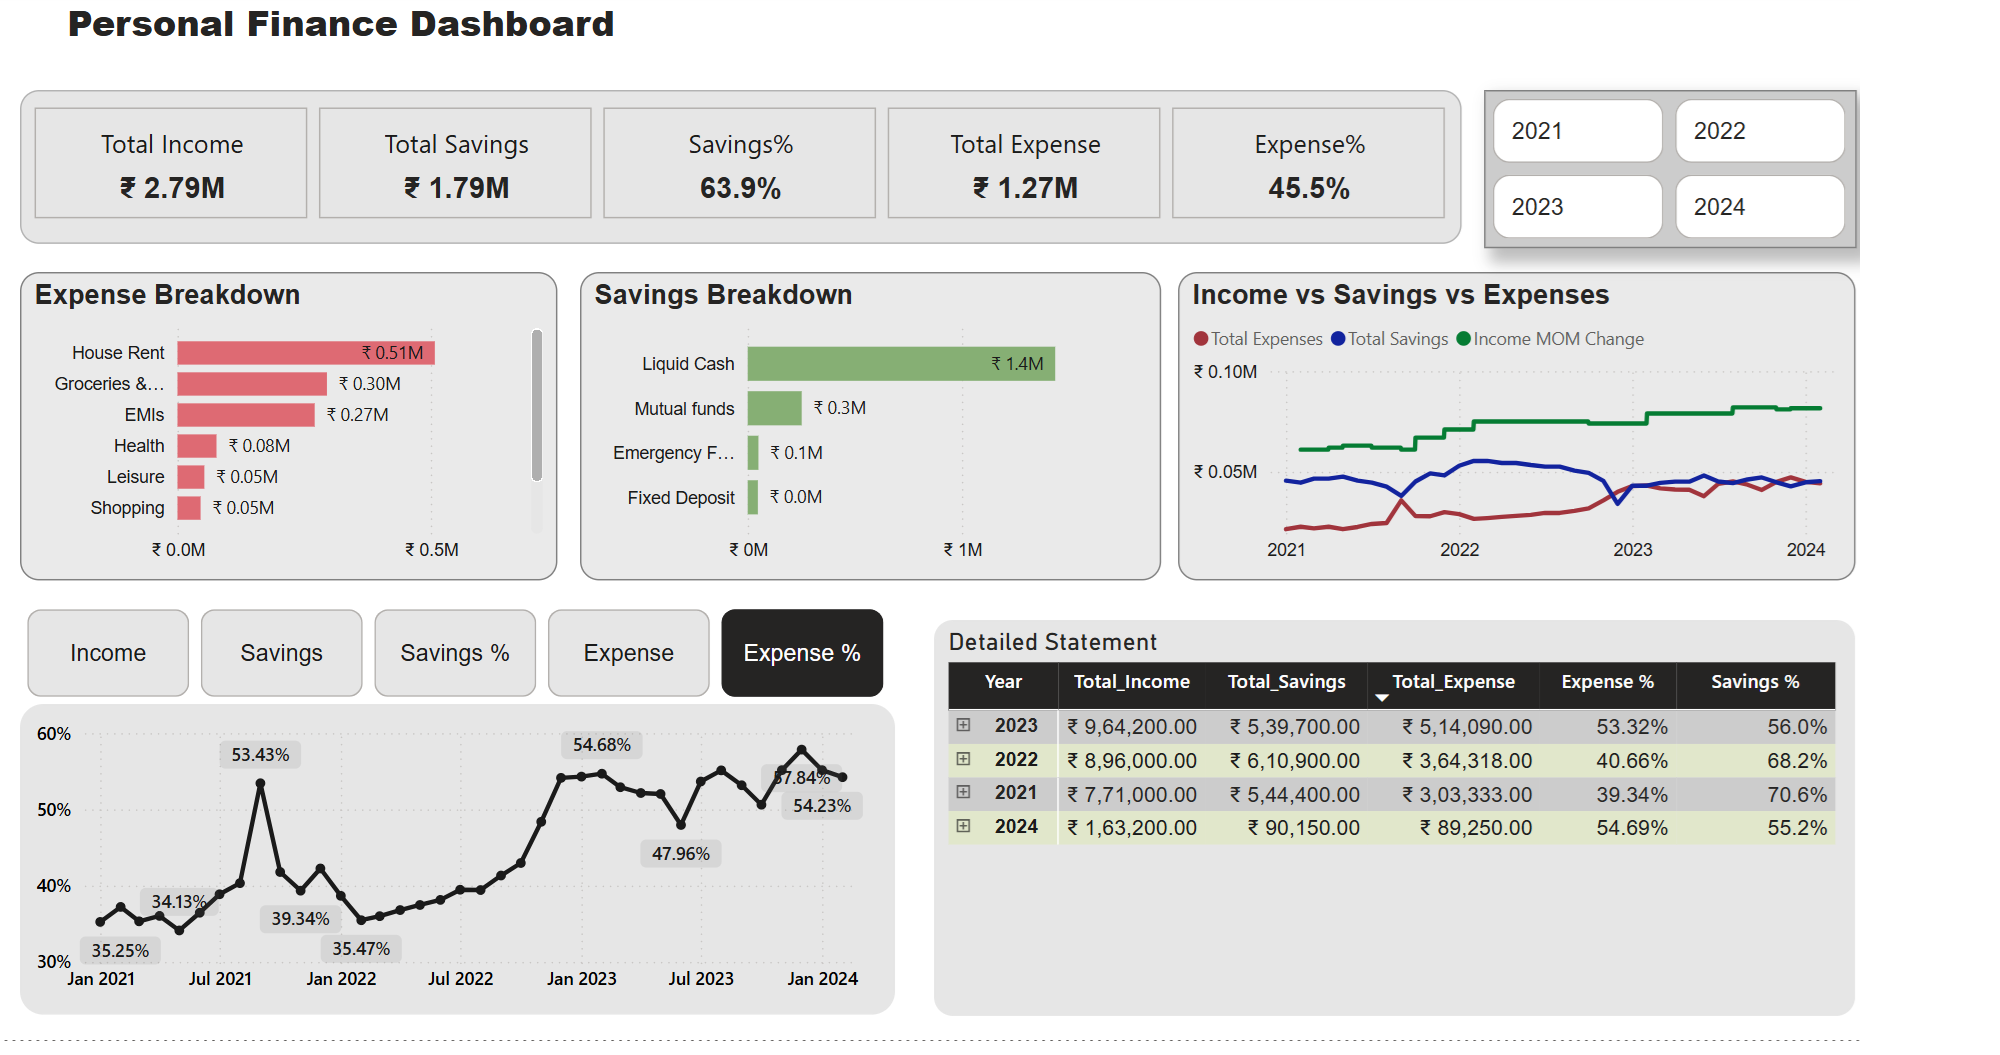

Layout of this report page (visuals, bound fields, positions):
{"tool":"powerbi","page":{"name":"Page 1","canvas":[1280,720],"ordinal":0},"visuals":[{"type":"cardVisual","fields":{"Data":["FinData.Total_Income","FinData.Total_Savings","FinData.Savings %","FinData.Total_Expense","FinData.Expense %"]},"box":[14.3,68.6,988.6,105.7],"z":0},{"type":"barChart","title":"Expense Breakdown","fields":{"Y":["FinData.Total_Expense"],"Category":["FinData.Component"]},"box":[14.3,192.9,368.6,211.4],"z":1000},{"type":"barChart","title":"Savings Breakdown","fields":{"Category":["FinData.Component"],"Y":["FinData.Total_Savings"]},"box":[397.1,192.9,398.6,211.4],"z":2000},{"type":"lineChart","title":"Income vs Savings vs Expenses","fields":{"Y":["FinData.Total_Expense","FinData.Total_Savings","Calendar_table.MOM_MOnth"],"Category":["Calendar_table.Date.Variation.Date Hierarchy.Year","Calendar_table.Date.Variation.Date Hierarchy.Quarter","Calendar_table.Date.Variation.Date Hierarchy.Month","Calendar_table.Date.Variation.Date Hierarchy.Day"]},"box":[807.1,192.9,464.3,211.4],"z":3000},{"type":"actionButton","box":[0,0,100,40],"z":4000},{"type":"advancedSlicerVisual","title":"Total Expense","fields":{"Values":["Income fields.Income fields"]},"box":[14.3,420,600,70],"z":5000},{"type":"lineChart","title":"Expense %","fields":{"Y":["FinData.Total_Expense"],"Category":["Calendar_table.Date"]},"box":[14.3,490,600,212.9],"z":6000},{"type":"pivotTable","title":"Detailed Statement","fields":{"Values":["FinData.Total_Income","FinData.Total_Savings","FinData.Total_Expense","FinData.Expense %","FinData.Savings %"],"Rows":["Calendar_table.Date.Variation.Date Hierarchy.Year","Calendar_table.Date.Variation.Date Hierarchy.Quarter","Calendar_table.Date.Variation.Date Hierarchy.Month","Calendar_table.Date.Variation.Date Hierarchy.Day"]},"box":[640,431.4,631.4,271.4],"z":7000},{"type":"advancedSlicerVisual","fields":{"Values":["Calendar_table.Date.Variation.Date Hierarchy.Year"]},"box":[1017.1,68.6,255.7,108.6],"z":8000},{"type":"textbox","box":[177.1,0,510,52.9],"z":9000}]}

Visuals, with their boxes on the page's 1280x720 design canvas (x1, y1, x2, y2). These are canvas units, not pixel positions in the 2000x1055 screenshot, which may show the page scaled, cropped or inside an application window:
cardVisual - FinData.Total_Income x FinData.Total_Savings: l=14, t=69, r=1003, b=174
"Expense Breakdown" barChart: l=14, t=193, r=383, b=404
"Savings Breakdown" barChart: l=397, t=193, r=796, b=404
"Income vs Savings vs Expenses" lineChart: l=807, t=193, r=1271, b=404
actionButton: l=0, t=0, r=100, b=40
"Total Expense" advancedSlicerVisual: l=14, t=420, r=614, b=490
"Expense %" lineChart: l=14, t=490, r=614, b=703
"Detailed Statement" pivotTable: l=640, t=431, r=1271, b=703
advancedSlicerVisual - Calendar_table.Date.Variation.Date Hierarchy.Year: l=1017, t=69, r=1273, b=177
textbox: l=177, t=0, r=687, b=53
